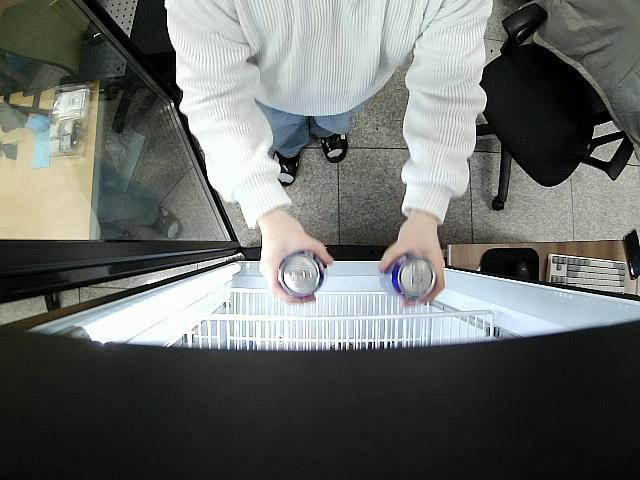00_hand: (258, 225, 334, 305), (379, 225, 445, 305)
14_welchsGrape: (379, 252, 437, 301), (277, 250, 326, 299)
